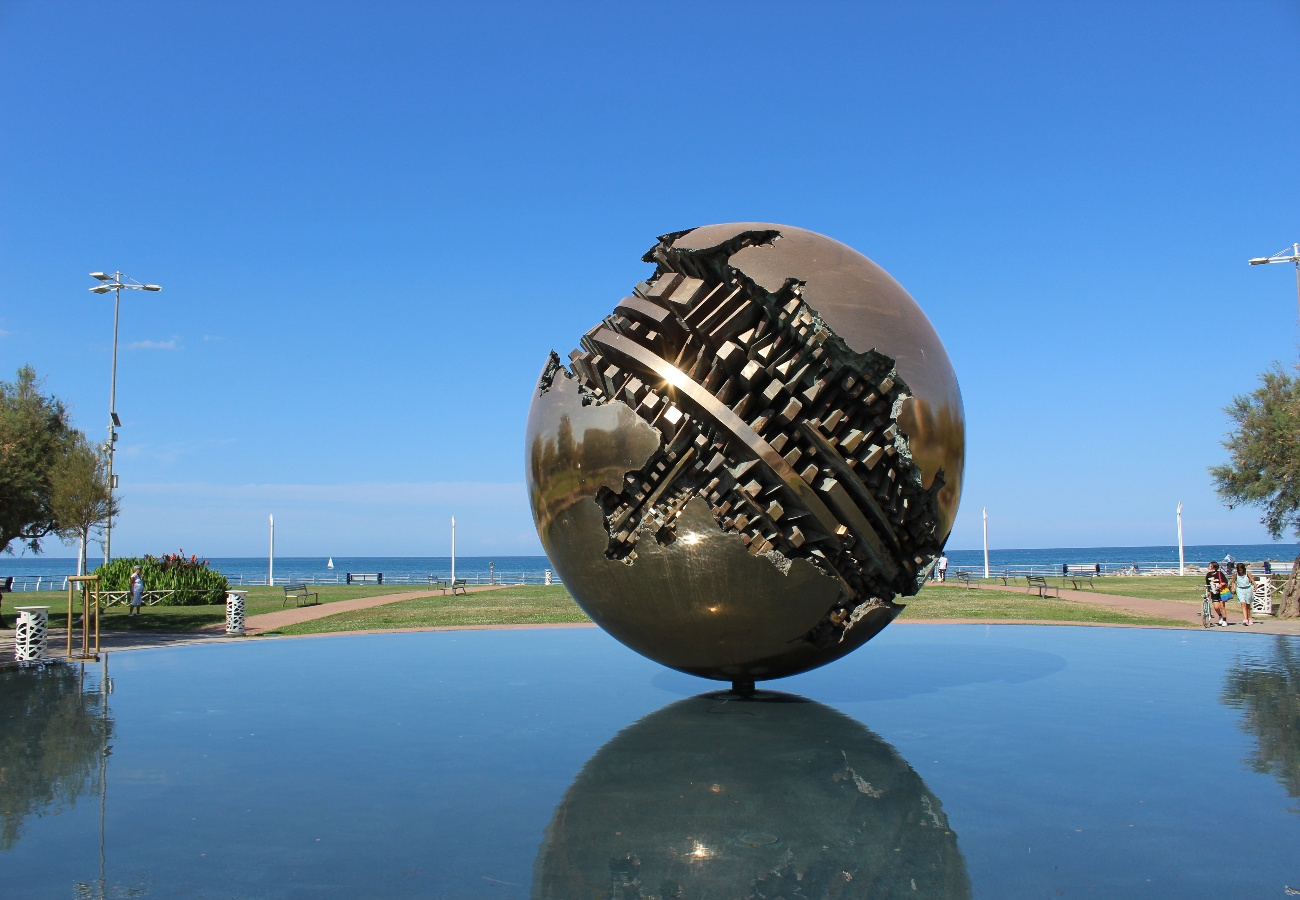Palla di Pomodoro: (523, 217, 971, 683)
